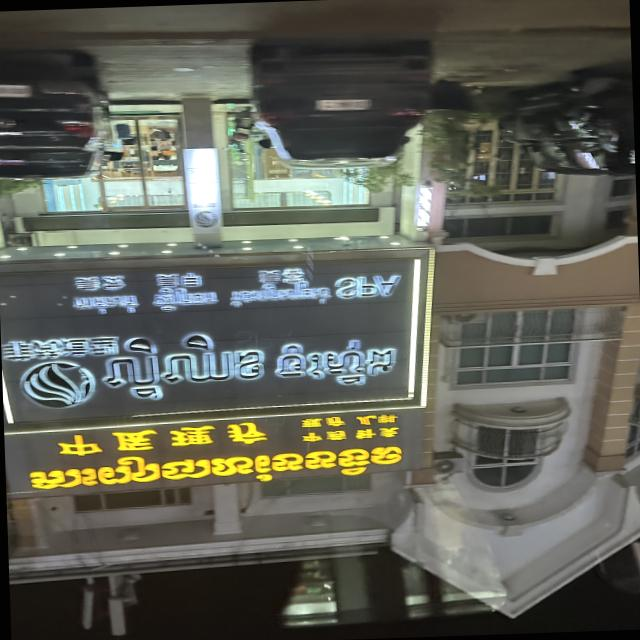1: (88, 328, 405, 405)
Yolov11kh: (17, 437, 407, 494)
